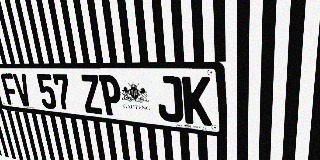5: (36, 74, 58, 110)
7: (51, 74, 74, 111)
F: (0, 73, 20, 106)
J: (155, 76, 184, 123)
K: (182, 76, 212, 126)
P: (98, 75, 124, 117)
V: (12, 73, 33, 107)
Z: (79, 75, 104, 115)
